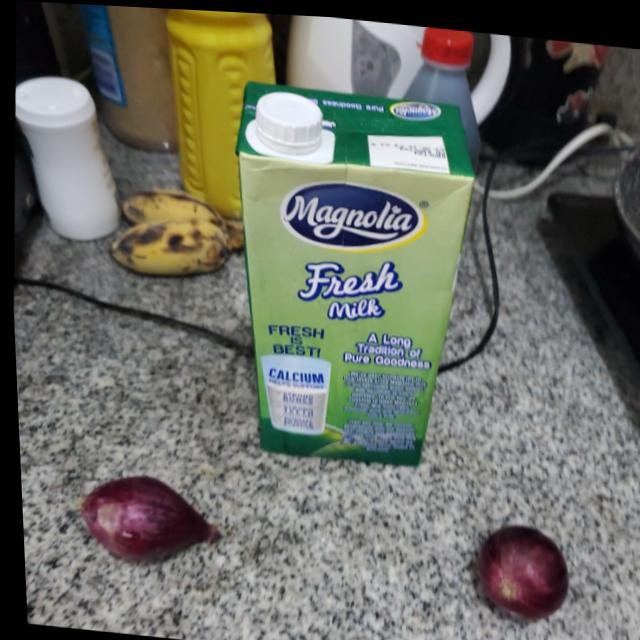milk: (218, 77, 488, 471)
onion: (71, 470, 214, 566), (470, 513, 570, 615)
